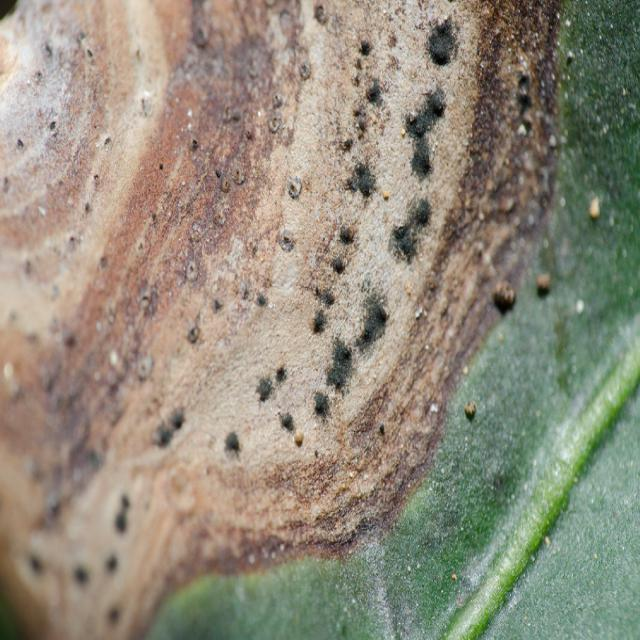Tea cloud leaf blight: (4, 6, 569, 560)
